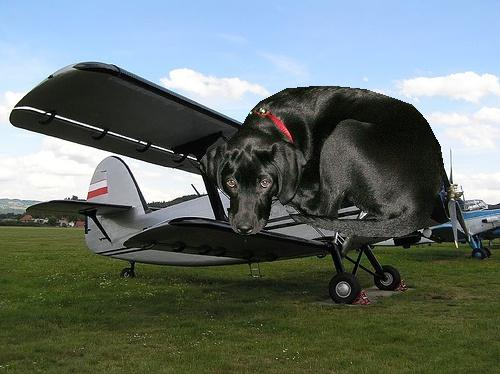tampered: (198, 87, 444, 237)
